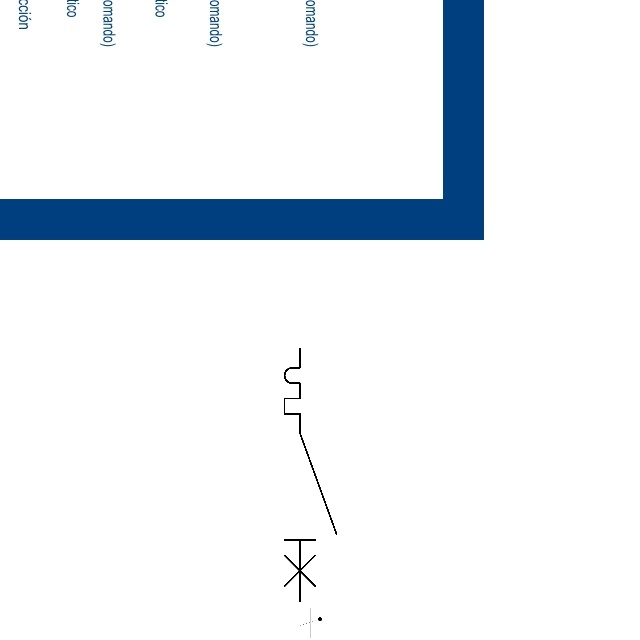interruptor_termomagnetico: (278, 342, 343, 608)
